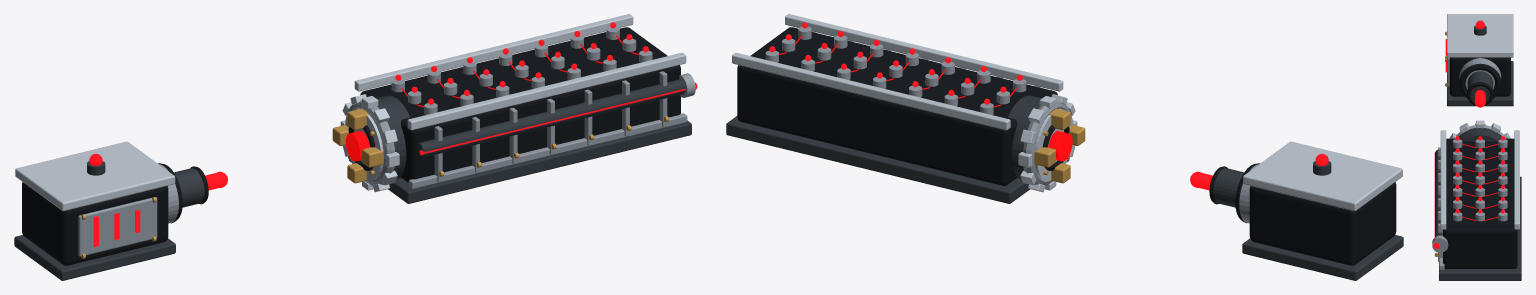
Rendered from distranet-member-docking.glb.
The picture shows the model from 3 angles, left to right: view 1: azimuth 30°, elevation 25°; view 2: azimuth 150°, elevation 25°; view 3: azimuth 270°, elevation 25°; orthographic projection. The views are drawn at different scales.
Visible parts, largest first — view 1: Network spine housing, Member module top rail, Member module enclosure, Network spine lower plinth, Network power bus sheath, Network top datum rail front, Network top datum rail rear, Member module front service plate, Member module steel base, Network lower datum rail, Dock receiver body, Member coupling shaft (+4 smaller); view 2: Network spine housing, Member module enclosure, Member module top rail, Network spine lower plinth, Network top datum rail rear, Network top datum rail front, Member module steel base, Dock receiver body, Member coupling shaft, Locking collar ring, Dock receiver face, Dock receiver power socket; view 3: Network spine housing, Member module top rail, Network spine lower plinth, Member module enclosure, Network top datum rail front, Member module steel base, Network top datum rail rear, Member coupling compression ring, Dock receiver body, Member coupling shaft, Member coupling shoulder, Network power bus sheath (+34 smaller).
Part boxes in pixels (left/top/right/bottom): Network spine housing: left=360, top=27, right=680, bottom=182; Member module top rail: left=15, top=141, right=175, bottom=211; Member module enclosure: left=22, top=182, right=168, bottom=265; Network spine lower plinth: left=349, top=120, right=691, bottom=203; Network power bus sheath: left=418, top=79, right=685, bottom=157; Network top datum rail front: left=407, top=52, right=686, bottom=130; Network top datum rail rear: left=354, top=14, right=633, bottom=91; Member module front service plate: left=78, top=197, right=157, bottom=256; Member module steel base: left=14, top=235, right=175, bottom=280; Network lower datum rail: left=408, top=113, right=687, bottom=188; Dock receiver body: left=376, top=95, right=410, bottom=179; Member coupling shaft: left=174, top=168, right=204, bottom=207; Network spine housing: left=737, top=27, right=1057, bottom=185; Member module enclosure: left=1249, top=182, right=1396, bottom=265; Member module top rail: left=1243, top=141, right=1402, bottom=211; Network spine lower plinth: left=726, top=116, right=1069, bottom=203; Network top datum rail rear: left=732, top=52, right=1010, bottom=130; Network top datum rail front: left=785, top=14, right=1063, bottom=91; Member module steel base: left=1242, top=235, right=1403, bottom=280; Dock receiver body: left=1008, top=95, right=1041, bottom=179; Member coupling shaft: left=1213, top=168, right=1243, bottom=207; Locking collar ring: left=1023, top=100, right=1072, bottom=185; Dock receiver face: left=1035, top=108, right=1072, bottom=180; Dock receiver power socket: left=1048, top=131, right=1072, bottom=161; Network spine housing: left=1443, top=138, right=1517, bottom=268; Member module top rail: left=1447, top=14, right=1513, bottom=57; Network spine lower plinth: left=1439, top=176, right=1521, bottom=280; Member module enclosure: left=1449, top=57, right=1510, bottom=96; Network top datum rail front: left=1440, top=130, right=1446, bottom=229; Member module steel base: left=1447, top=61, right=1513, bottom=106; Network top datum rail rear: left=1514, top=130, right=1519, bottom=229; Member coupling compression ring: left=1459, top=63, right=1501, bottom=98; Dock receiver body: left=1458, top=128, right=1501, bottom=141; Member coupling shaft: left=1467, top=71, right=1492, bottom=101; Member coupling shoulder: left=1459, top=58, right=1501, bottom=89; Network power bus sheath: left=1435, top=149, right=1442, bottom=236.
Size of the model in its own units: 15.09 by 2.29 by 2.68.
